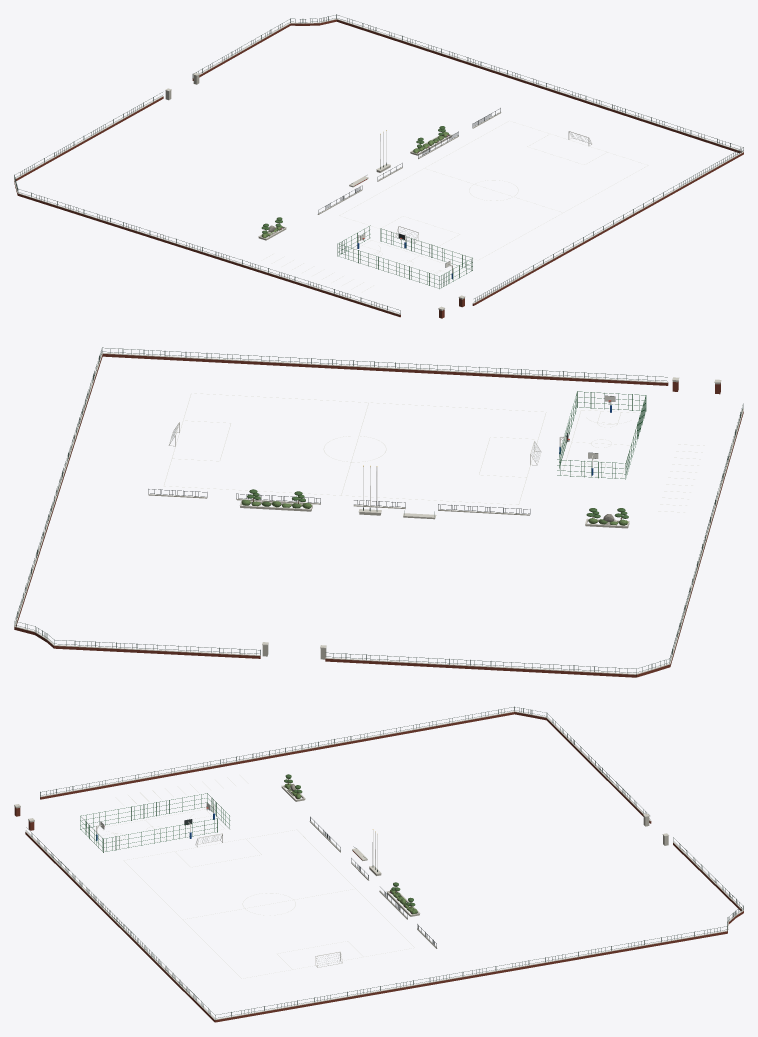
3 renders of one model, top to bottom at view 1: azimuth 30°, elevation 25°; view 2: azimuth 150°, elevation 25°; view 3: azimuth 270°, elevation 25°, orthographic. The views are drawn at different scales.
Parts seen in each view (by area): view 1: prop_boundary-fence, prop_court-fence, prop_flowerbeds, prop_field-lines; view 2: prop_boundary-fence, prop_flowerbeds, prop_court-fence, prop_field-lines; view 3: prop_boundary-fence, prop_court-fence, prop_flowerbeds, prop_field-lines.
Part boxes in pixels (bbox=[...]): prop_boundary-fence: bbox=[14, 14, 743, 317]; prop_court-fence: bbox=[337, 225, 472, 288]; prop_flowerbeds: bbox=[258, 108, 501, 240]; prop_field-lines: bbox=[339, 121, 648, 286]; prop_boundary-fence: bbox=[14, 347, 743, 677]; prop_flowerbeds: bbox=[148, 489, 629, 528]; prop_court-fence: bbox=[557, 391, 646, 479]; prop_field-lines: bbox=[164, 393, 640, 504]; prop_boundary-fence: bbox=[25, 706, 743, 1022]; prop_court-fence: bbox=[80, 793, 230, 852]; prop_flowerbeds: bbox=[281, 774, 437, 948]; prop_field-lines: bbox=[86, 809, 414, 978].
Bounding box in the file's own units: 152 × 9.34 × 151.
